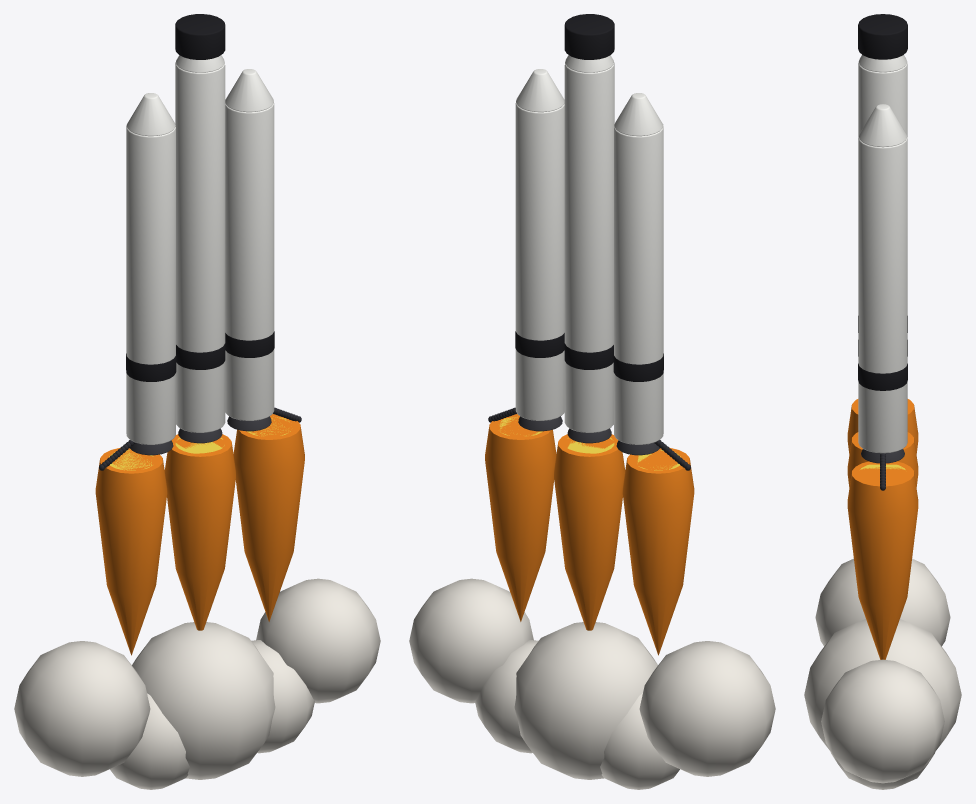
The model's file is falcon_air.glb.
3 renders of one model, left to right at view 1: azimuth 30°, elevation 25°; view 2: azimuth 150°, elevation 25°; view 3: azimuth 270°, elevation 25°, orthographic.
Parts seen in each view (by area): view 1: falcon_air, rocket; view 2: falcon_air, rocket; view 3: falcon_air, rocket.
Part boxes in pixels (x1,y1,x2,y2): falcon_air: (14, 414, 380, 789); rocket: (99, 14, 301, 470); falcon_air: (409, 414, 775, 789); rocket: (488, 14, 690, 470); falcon_air: (804, 399, 961, 789); rocket: (858, 14, 907, 490).
Bounding box in the file's own units: 3.55 × 7.28 × 1.4.
